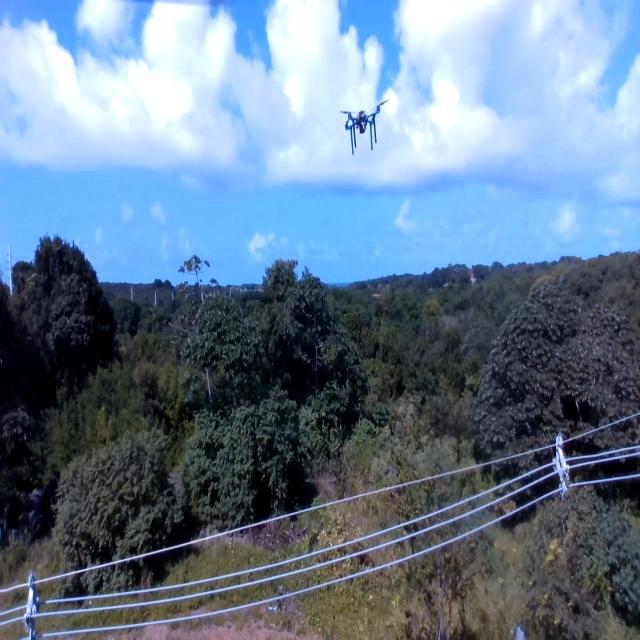-uav-: (336, 94, 392, 156)
